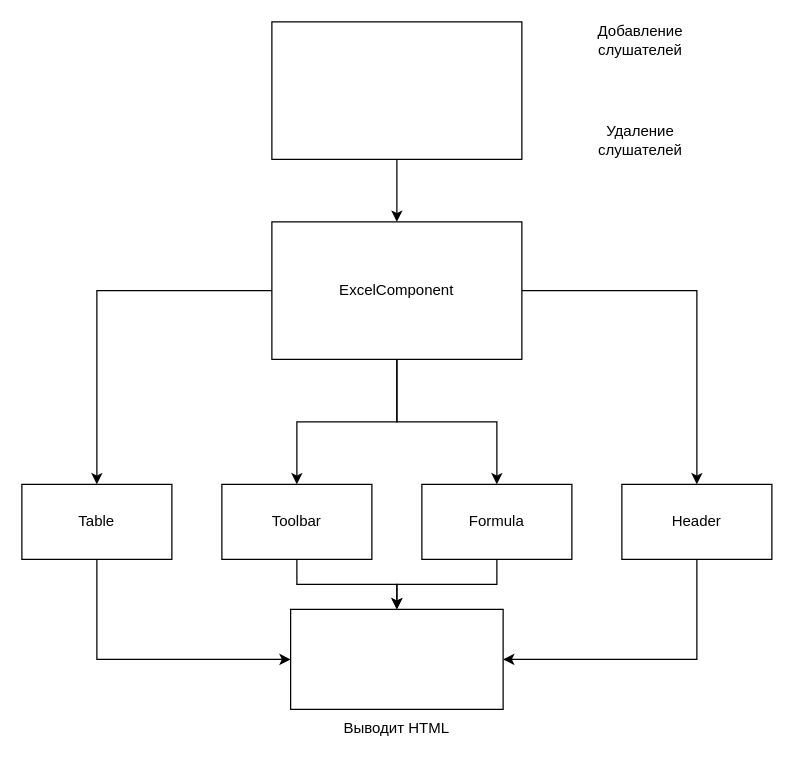
The diagram is 794 pixels wide and 769 high, and some of its shapes have lost their labels. Each missing label, with the centre of its shape:
DOMListener: pixel 396 90
Excel: pixel 396 658
